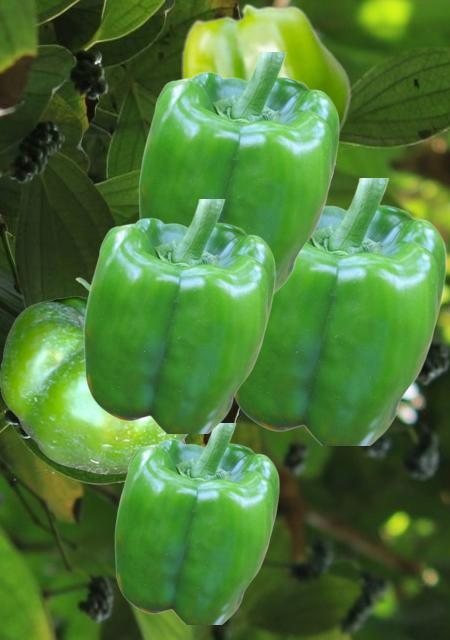bell_pepper: (234, 178, 445, 444), (138, 52, 338, 294), (83, 199, 274, 432), (0, 275, 189, 473), (114, 423, 278, 623), (181, 3, 350, 138)
